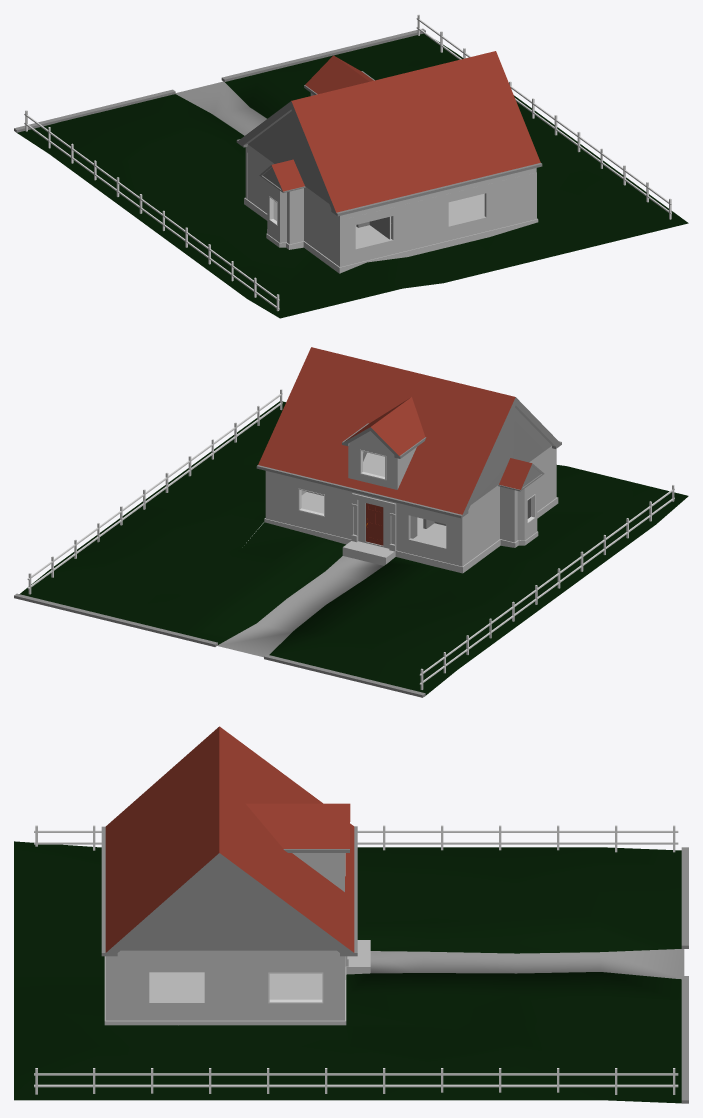
File: house02.FBX
The picture shows the model from 3 angles, top to bottom: view 1: azimuth 30°, elevation 25°; view 2: azimuth 150°, elevation 25°; view 3: azimuth 270°, elevation 25°; orthographic projection. The views are drawn at different scales.
Visible parts, largest first — view 1: GardenSurface, Roof, SouthWall, ToiletRoof, HouseBase, FenceEast, FenceWest, Ceiling, ToiletWall, SouthEastWall, AtticRoof, CurbWest (+3 smaller); view 2: GardenSurface, Roof, FacadeWall, HouseBase, ToiletRoof, FenceWest, FenceEast, AtticRoof, NorthEastWall, ToiletWall, Ceiling, AtticFacade (+5 smaller); view 3: GardenSurface, Roof, WestWall, WestGable, HouseBase, FenceWest, AtticRoof, FenceEast, Ceiling, CurbWest, AtticWallWest, CurbEast (+2 smaller).
Part boxes in pixels (<box>): GardenSurface: <box>17,33,688,318</box>; Roof: <box>238,51,540,212</box>; SouthWall: <box>339,172,536,266</box>; ToiletRoof: <box>248,111,328,203</box>; HouseBase: <box>244,193,538,273</box>; FenceEast: <box>24,110,279,311</box>; FenceWest: <box>416,14,671,219</box>; Ceiling: <box>245,144,536,220</box>; ToiletWall: <box>267,187,303,244</box>; SouthEastWall: <box>304,194,338,265</box>; AtticRoof: <box>305,55,373,94</box>; CurbWest: <box>221,28,425,82</box>; GardenSurface: <box>19,401,688,695</box>; Roof: <box>258,347,560,514</box>; FacadeWall: <box>266,472,464,566</box>; HouseBase: <box>264,492,558,573</box>; ToiletRoof: <box>471,407,551,504</box>; FenceWest: <box>27,389,282,594</box>; FenceEast: <box>419,485,674,689</box>; AtticRoof: <box>343,397,425,455</box>; NorthEastWall: <box>464,492,499,564</box>; ToiletWall: <box>500,485,537,542</box>; Ceiling: <box>265,446,556,519</box>; AtticFacade: <box>348,431,394,488</box>; GardenSurface: <box>14,841,684,1103</box>; Roof: <box>105,726,354,952</box>; WestWall: <box>105,961,344,1020</box>; WestGable: <box>121,863,336,950</box>; HouseBase: <box>104,940,370,1025</box>; FenceWest: <box>34,1068,678,1094</box>; AtticRoof: <box>246,803,350,848</box>; FenceEast: <box>34,825,678,852</box>; Ceiling: <box>105,950,344,961</box>; CurbWest: <box>681,976,688,1103</box>; AtticWallWest: <box>292,853,340,888</box>; CurbEast: <box>681,847,688,948</box>.
Size of the model in its own units: 25.02 by 8.36 by 28.19.
